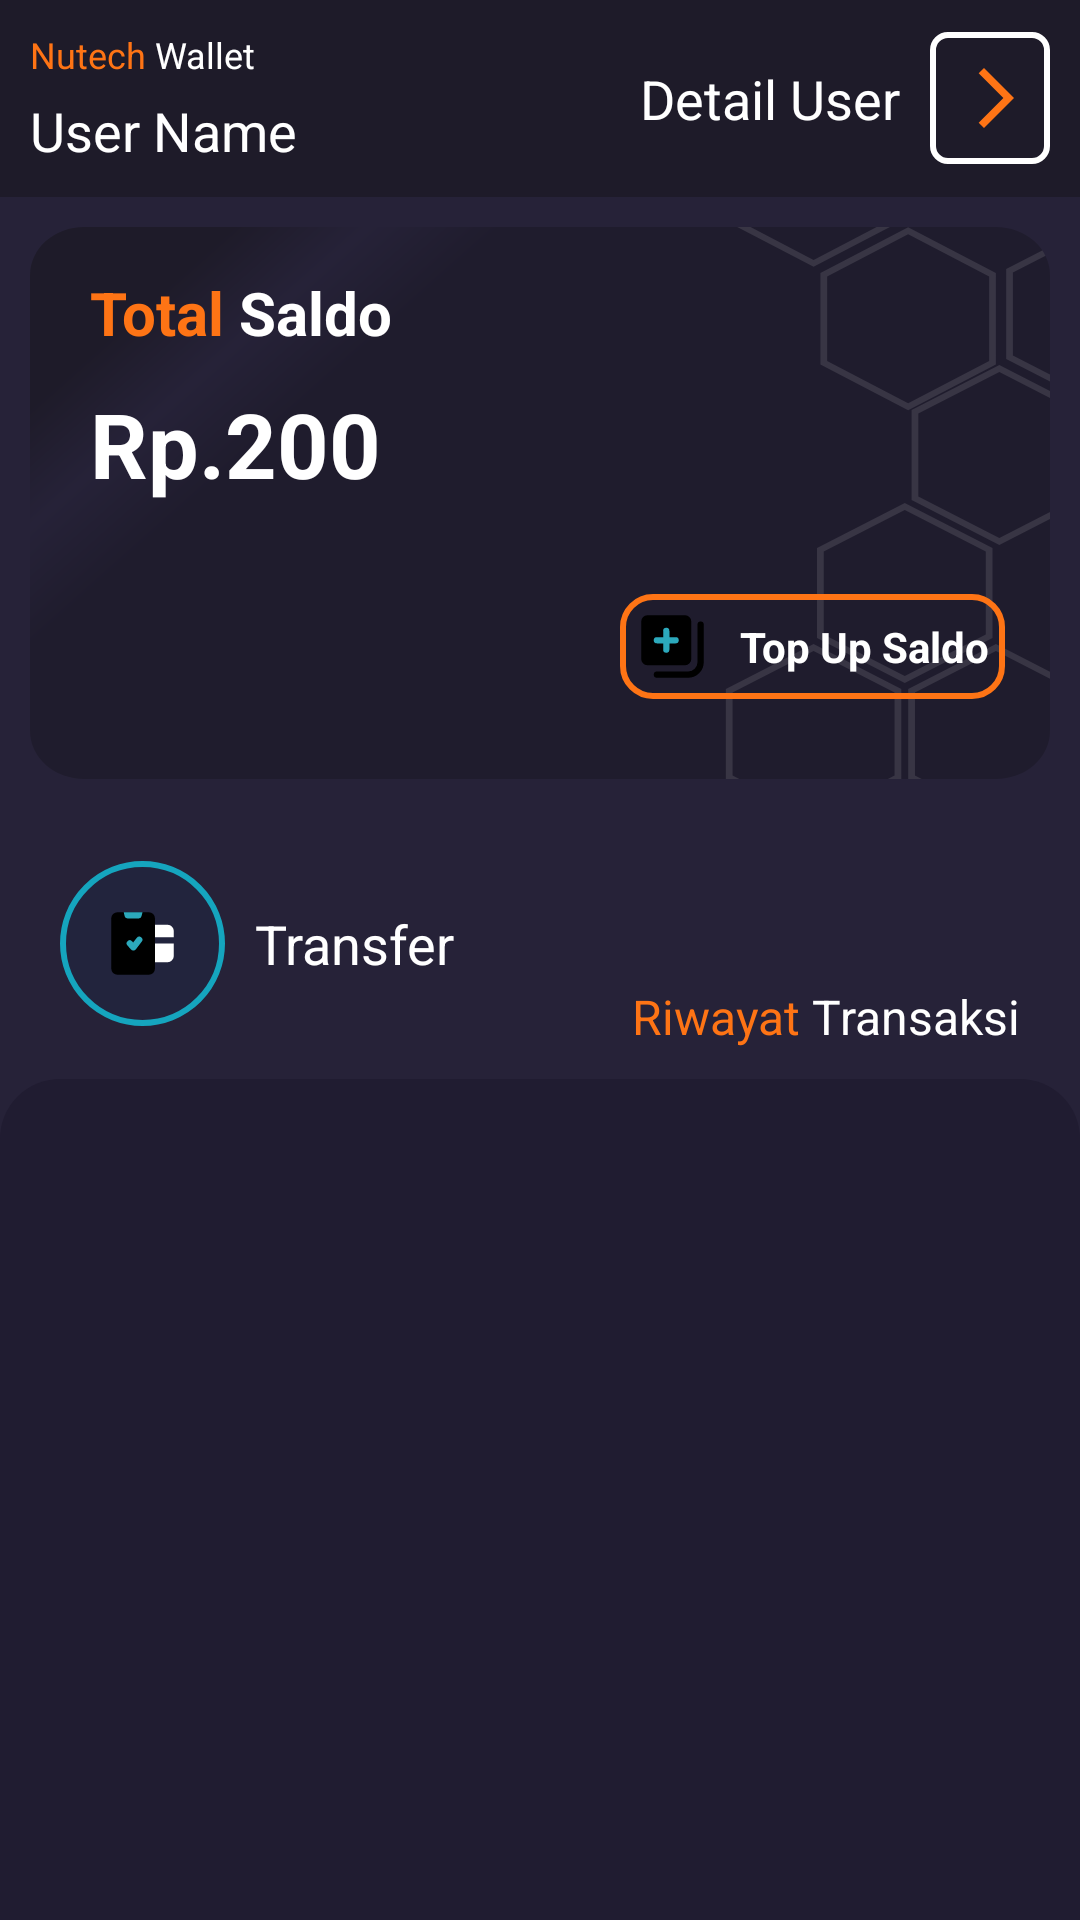

Icon click points for this 1080px x 1920px phone screenshot, format (x=x, y=y):
arrow forward: (x=990, y=98)
mobile payment: (x=142, y=943)
